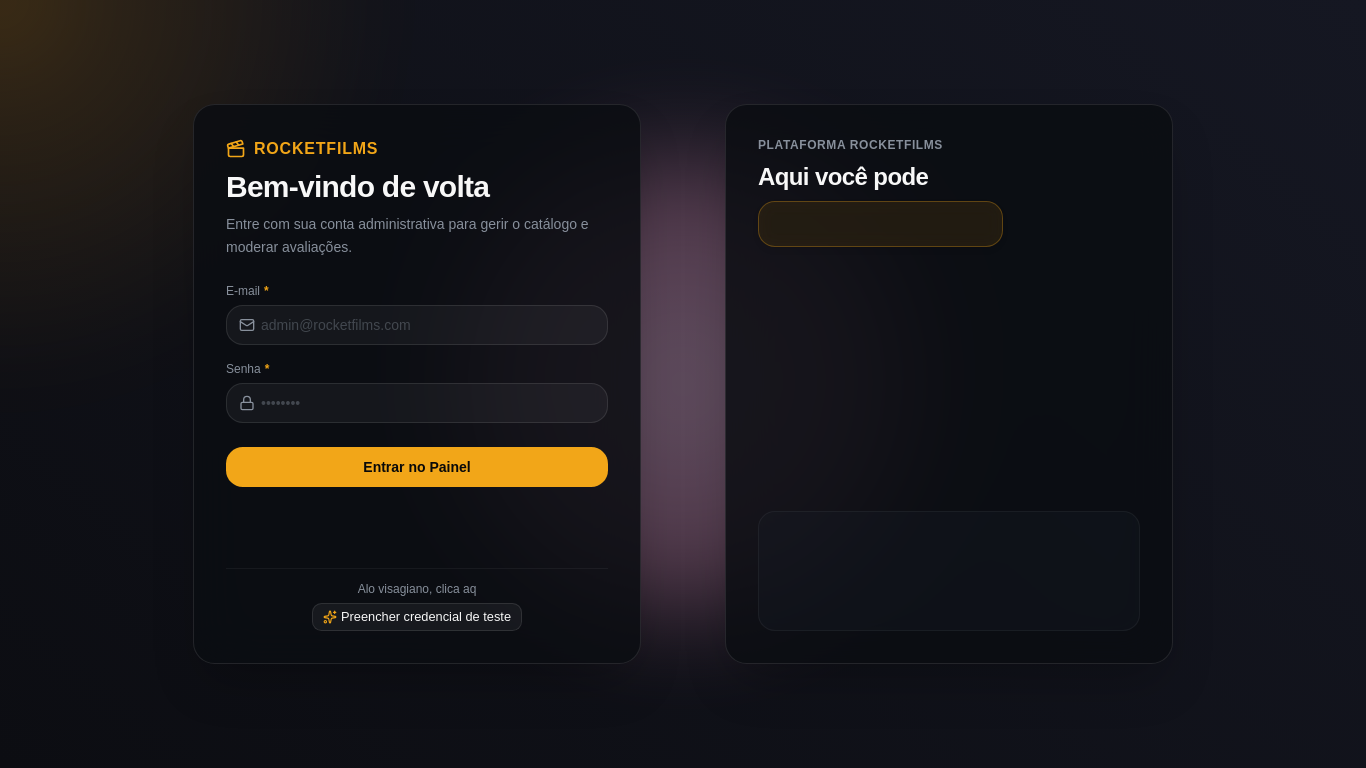
Test: LoginContainer with TanStack Form and TanStack Query › exibe erros de validação ao submeter formulário vazio
This screenshot has width=1366, height=768.
What coordinates should you click on to do the following:
click the button "Entrar no Painel"
I would click on:
 (417, 466)
Its box is [226, 446, 608, 486].
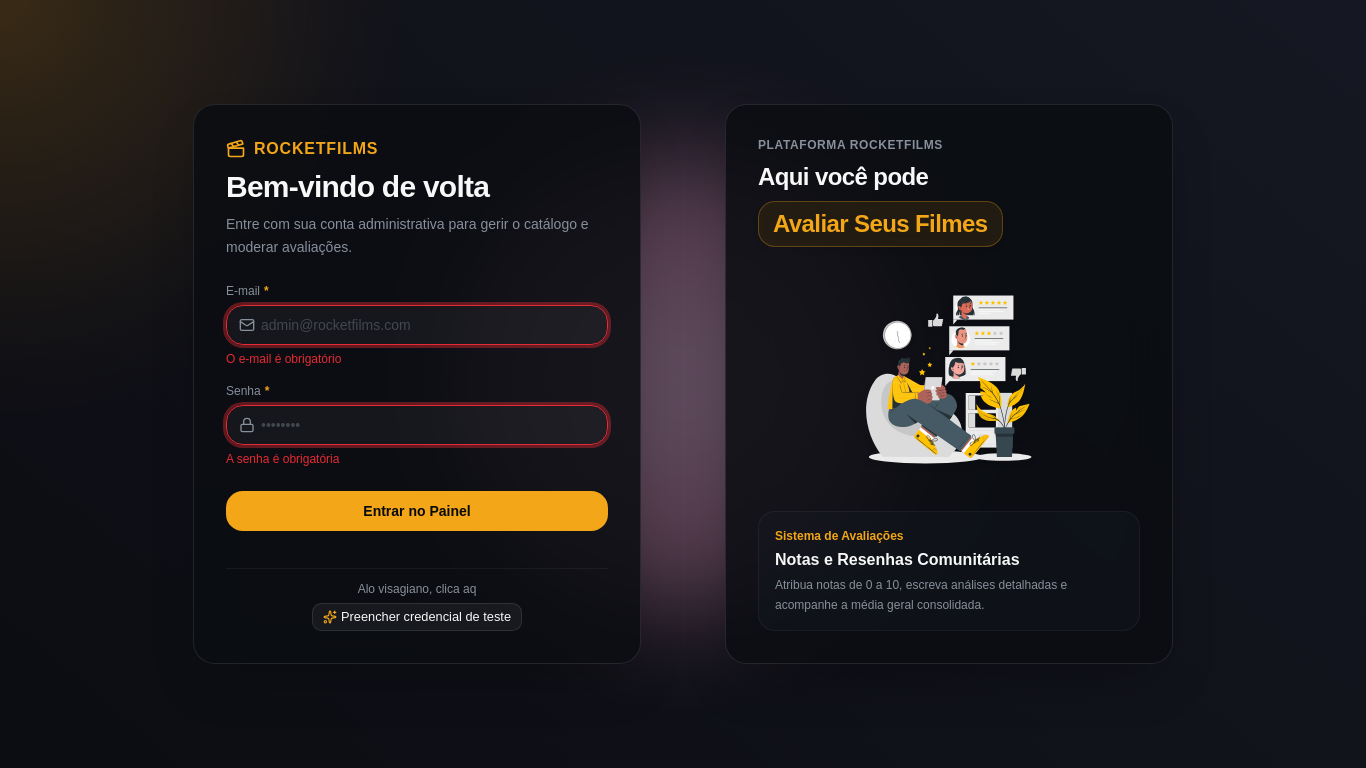
Expected: the text "O e-mail é obrigatório" is shown, [226, 352, 341, 366]
Expected: the text "A senha é obrigatória" is shown, [226, 452, 339, 466]
